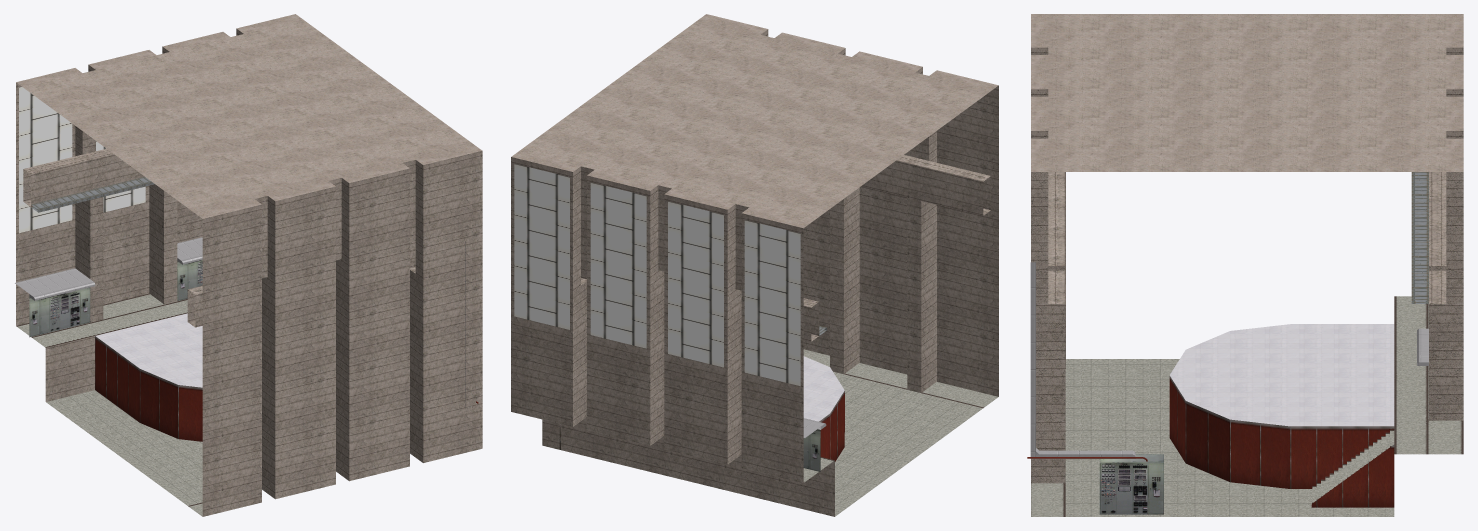
Rendered from dam_genbay01.obj.
3 renders of one model, left to right at view 1: azimuth 30°, elevation 25°; view 2: azimuth 150°, elevation 25°; view 3: azimuth 270°, elevation 25°, orthographic. The views are drawn at different scales.
Parts seen in each view (by area): view 1: dam_genbay01; view 2: dam_genbay01; view 3: dam_genbay01.
Boxes of the visible parts, bbox=[...] form: dam_genbay01: bbox=[15, 14, 482, 516]; dam_genbay01: bbox=[511, 14, 998, 516]; dam_genbay01: bbox=[1027, 14, 1463, 516].
Size of the model in its own units: 21.73 by 22 by 25.22.
Materials: 13 (13 with a texture image).
